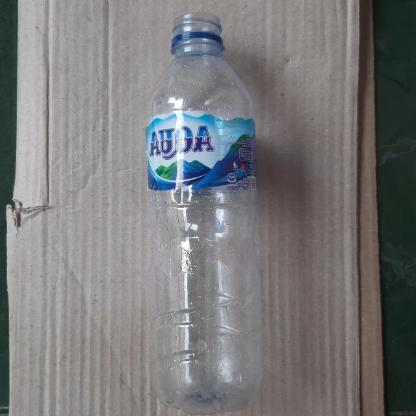Plastic Bottle: (146, 10, 262, 416)
